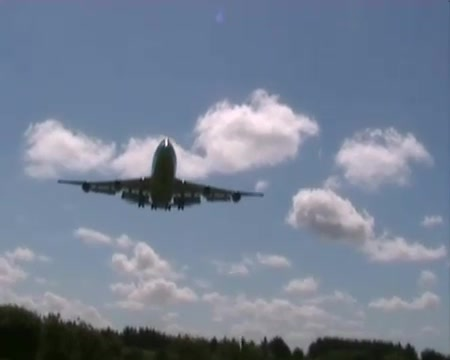aeroplane: (58, 137, 266, 214)
